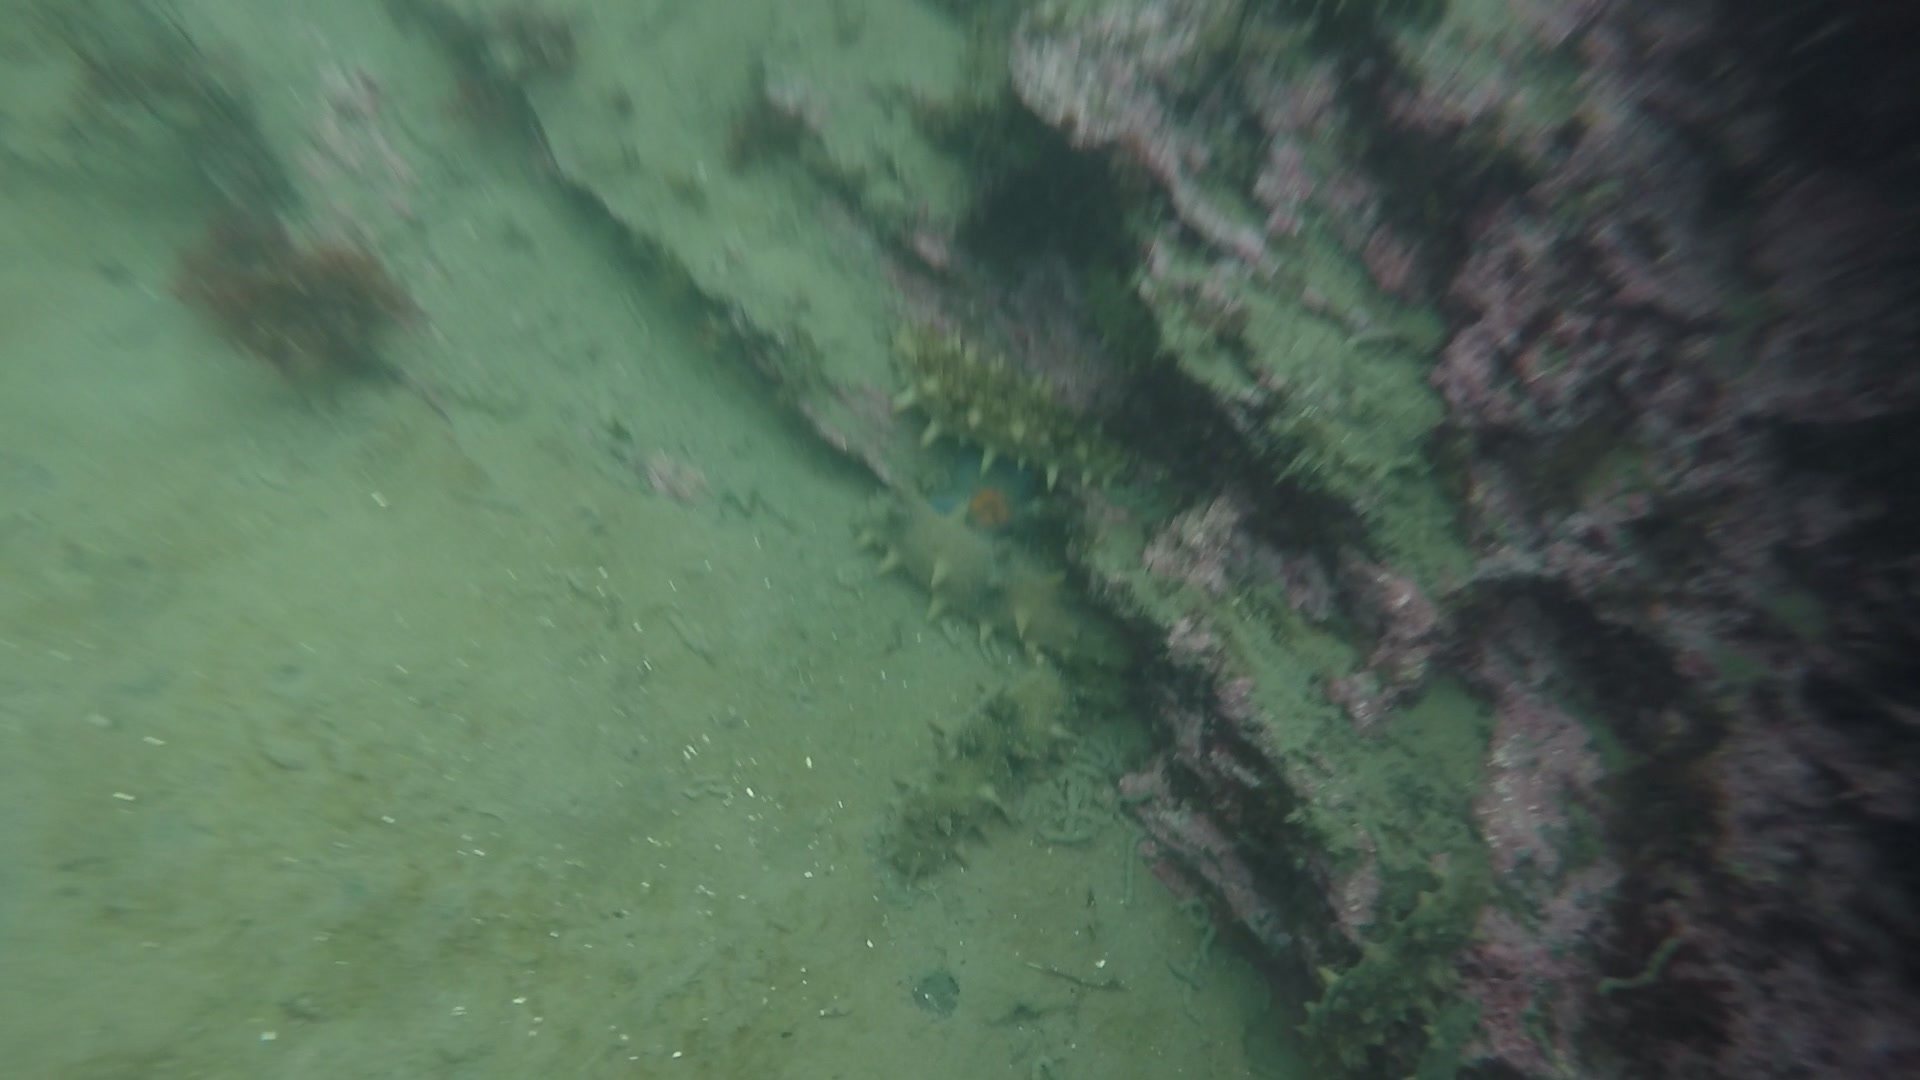holothurian: (844, 485, 1142, 670), (873, 316, 1158, 491), (876, 670, 1075, 880)
